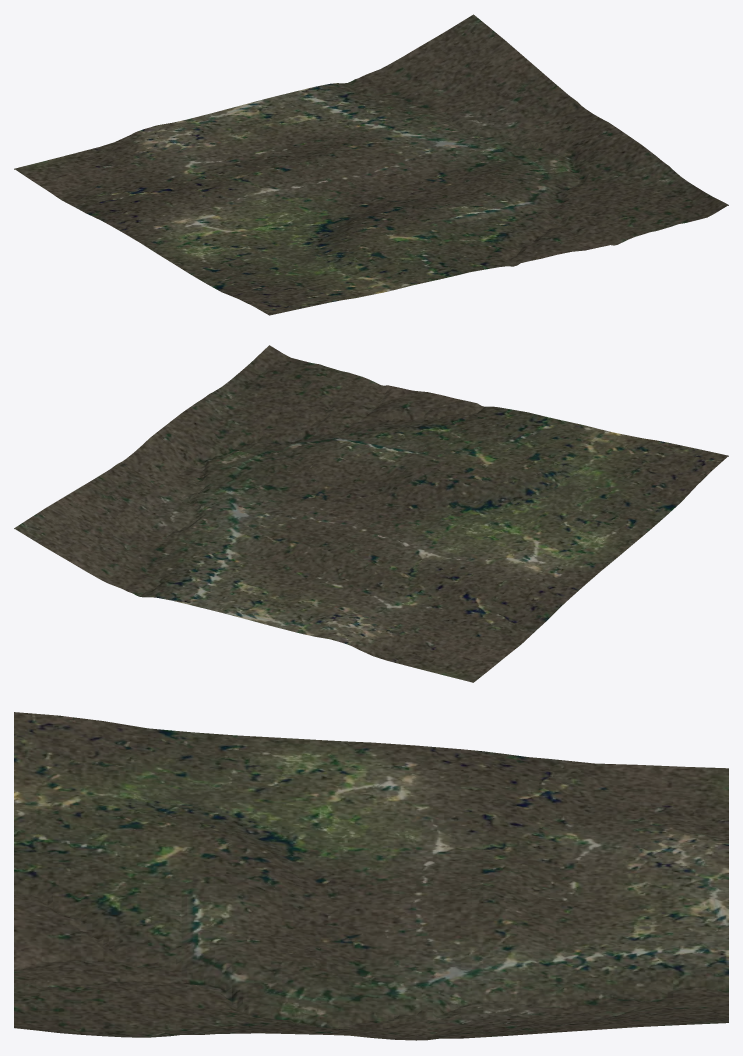
3 renders of one model, top to bottom at view 1: azimuth 30°, elevation 25°; view 2: azimuth 150°, elevation 25°; view 3: azimuth 270°, elevation 25°, orthographic. The views are drawn at different scales.
Bounding box in the file's own units: 500 × 44.99 × 481.
1 material, 1 textured.
